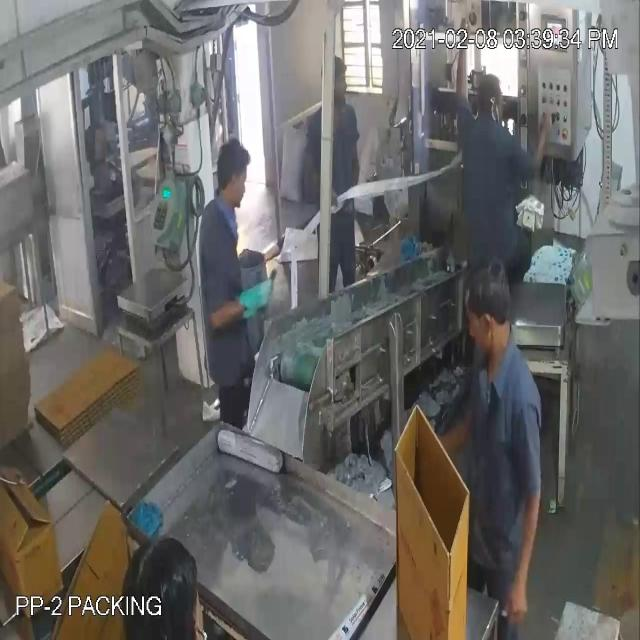gloves: (205, 273, 281, 334)
no-gloves: (498, 443, 548, 631)
